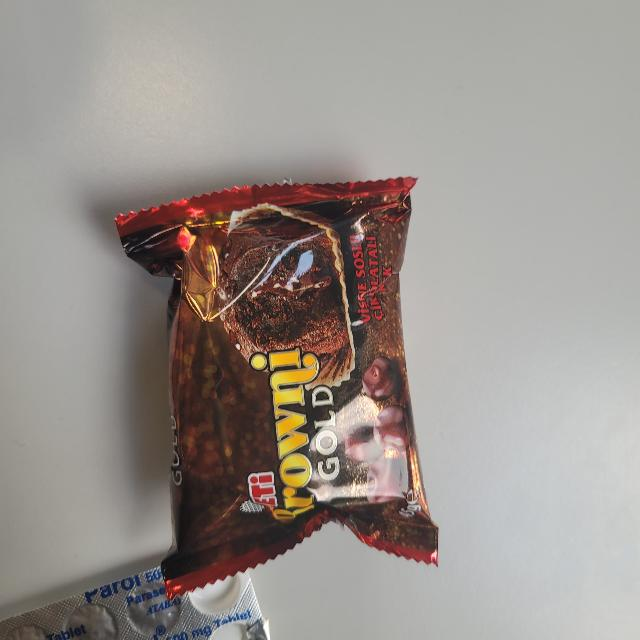Metal: (0, 560, 277, 640)
Plastik: (109, 171, 458, 579)
